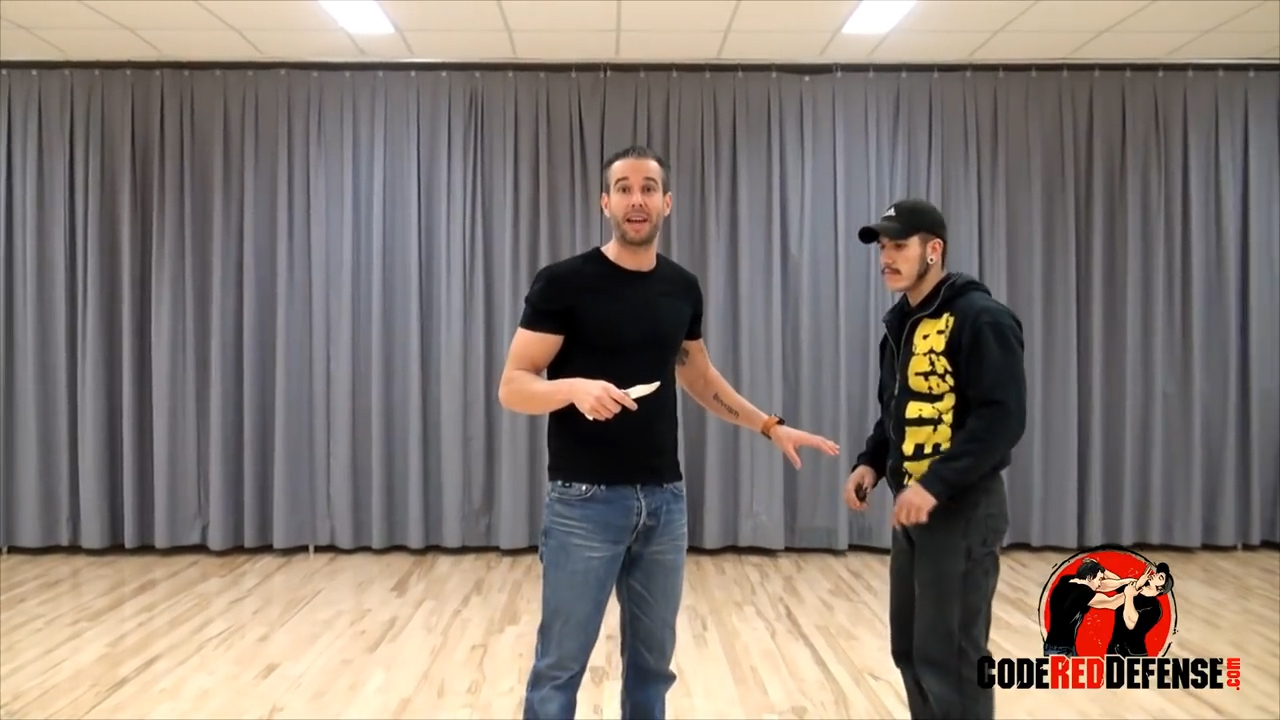knife: (582, 376, 664, 421)
